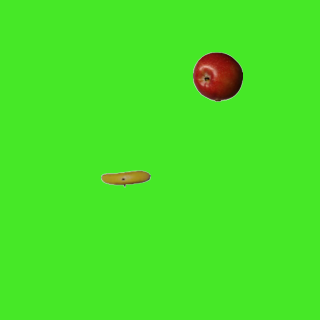Apple Braeburn: (192, 51, 242, 101)
Banana: (100, 153, 150, 203)
